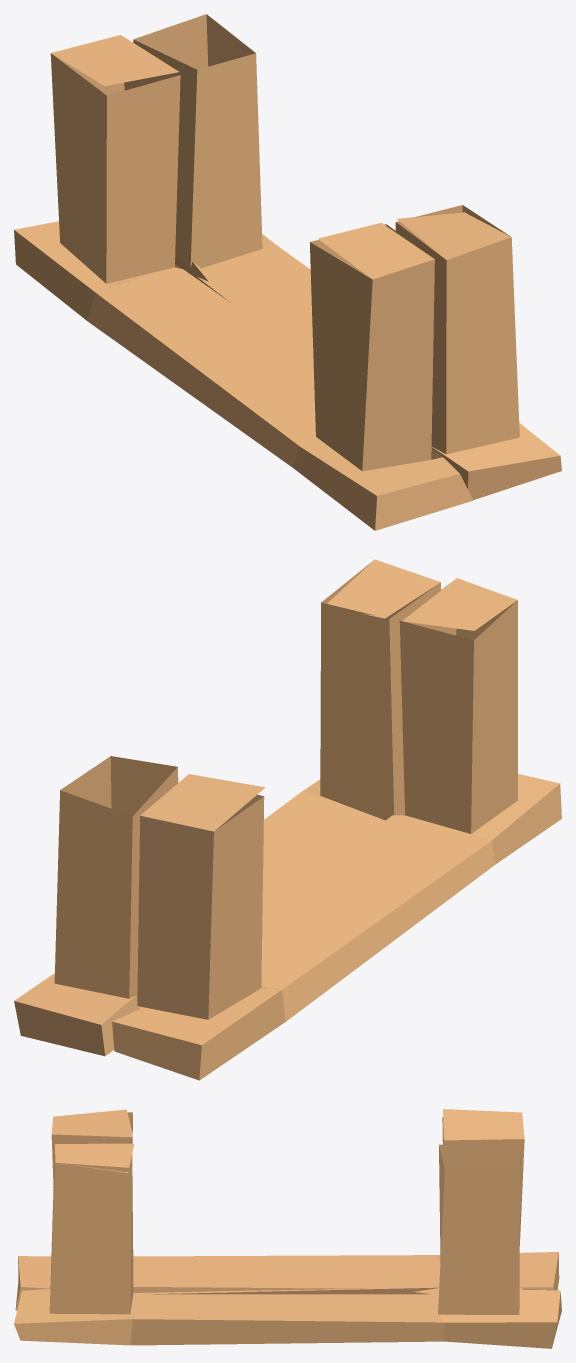
Rendered from cc_bench1.fbx.
3 views of the same model, one above another, from view 1: azimuth 30°, elevation 25°; view 2: azimuth 150°, elevation 25°; view 3: azimuth 270°, elevation 25° (orthographic). The views are drawn at different scales.
Parts seen in each view (by area): view 1: Cube; view 2: Cube; view 3: Cube.
Part boxes in pixels (x1,y1,x2,y2): Cube: [14, 14, 561, 530]; Cube: [14, 559, 561, 1080]; Cube: [14, 1109, 561, 1348].
Bounding box in the file's own units: 211 × 244 × 679.
